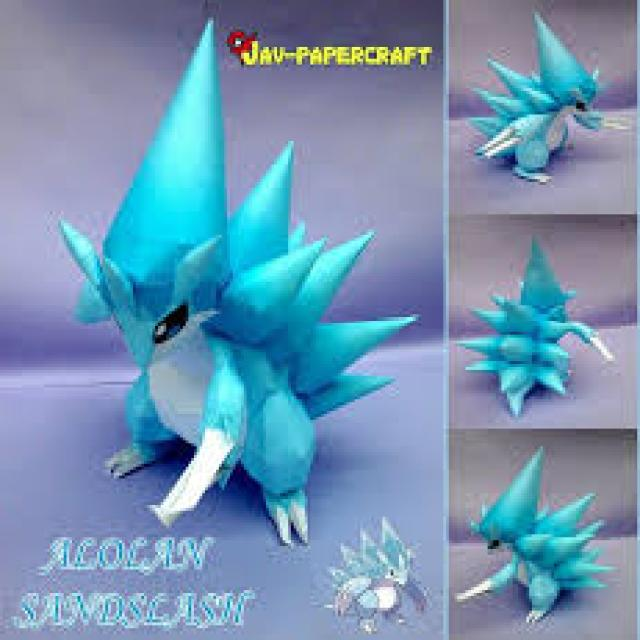Alolan: (75, 89, 333, 512), (477, 450, 601, 616), (484, 31, 607, 183), (331, 522, 435, 628)
